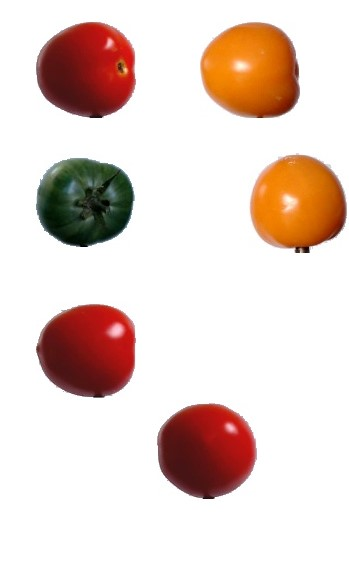green: (37, 158, 136, 248)
half: (197, 20, 304, 121), (252, 156, 349, 252)
red: (36, 305, 140, 403), (156, 399, 257, 498), (37, 22, 137, 121)
